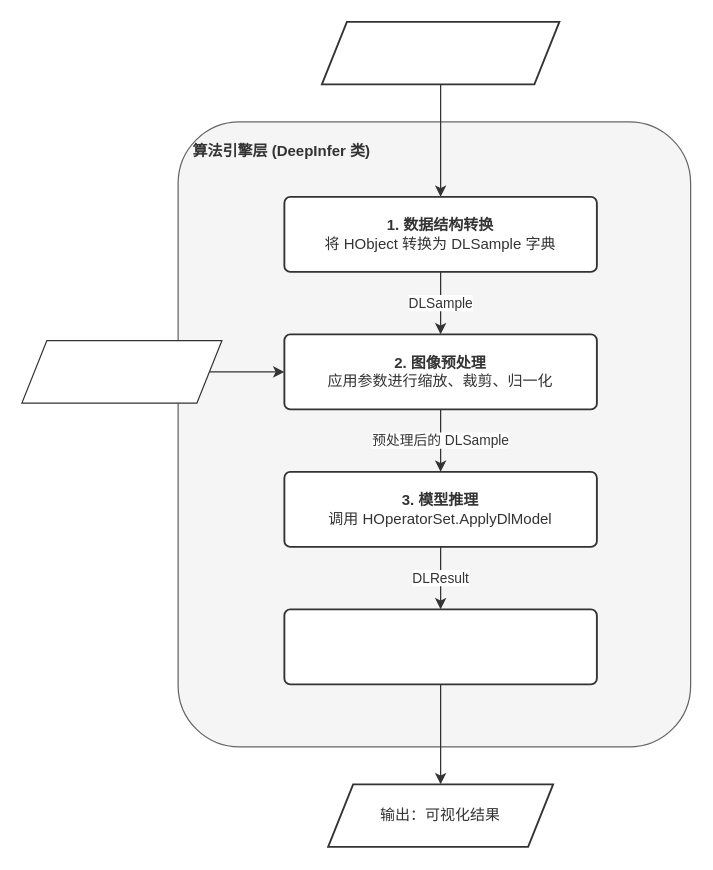
This 713x870 diagram has some shape labels left out. Each missing label, with the centre of its shape:
"4. 结果解析与可视化 提取信息并在窗口显示" belongs at pixel 440 646.
"输入：HObject 图像" belongs at pixel 440 52.
"预处理参数" belongs at pixel 121 371.
